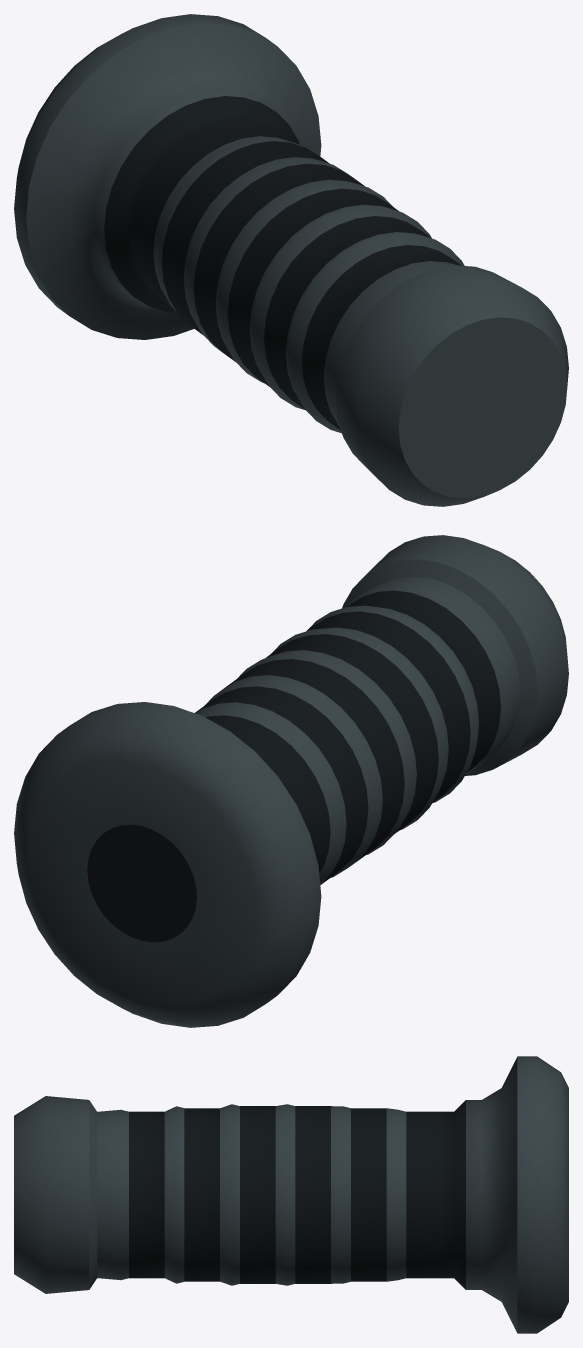
Rendered from blade-handle-T7CXfyfQ.glb.
3 views of the same model, one above another, from view 1: azimuth 30°, elevation 25°; view 2: azimuth 150°, elevation 25°; view 3: azimuth 270°, elevation 25° (orthographic). The views are drawn at different scales.
Parts seen in each view (by area): view 1: HandleBody; view 2: HandleBody; view 3: HandleBody.
Part boxes in pixels (x1,y1,x2,y2): HandleBody: (14,14,568,506); HandleBody: (14,535,568,1027); HandleBody: (14,1056,568,1333).
Bounding box in the file's own units: 0.07 × 0.07 × 0.14.
Materials: 2 (2 with a texture image).
